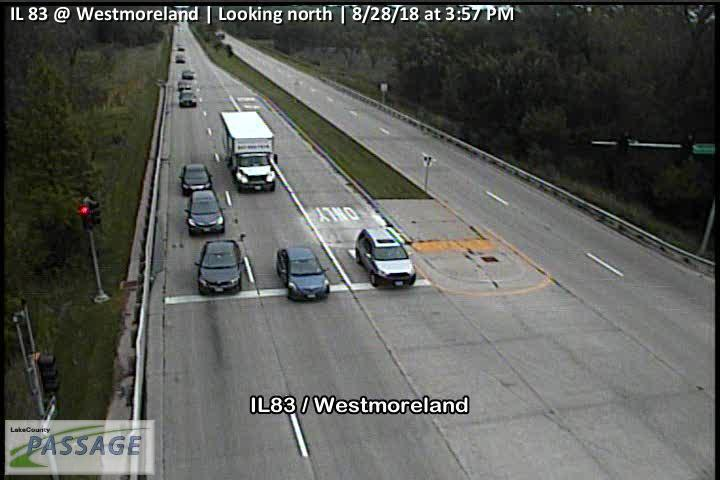Bus: (217, 108, 279, 193)
SUV: (354, 227, 417, 289)
Sedan: (276, 246, 331, 303), (194, 239, 245, 295), (183, 188, 225, 235), (177, 162, 212, 195), (179, 89, 196, 107), (177, 79, 193, 89)
